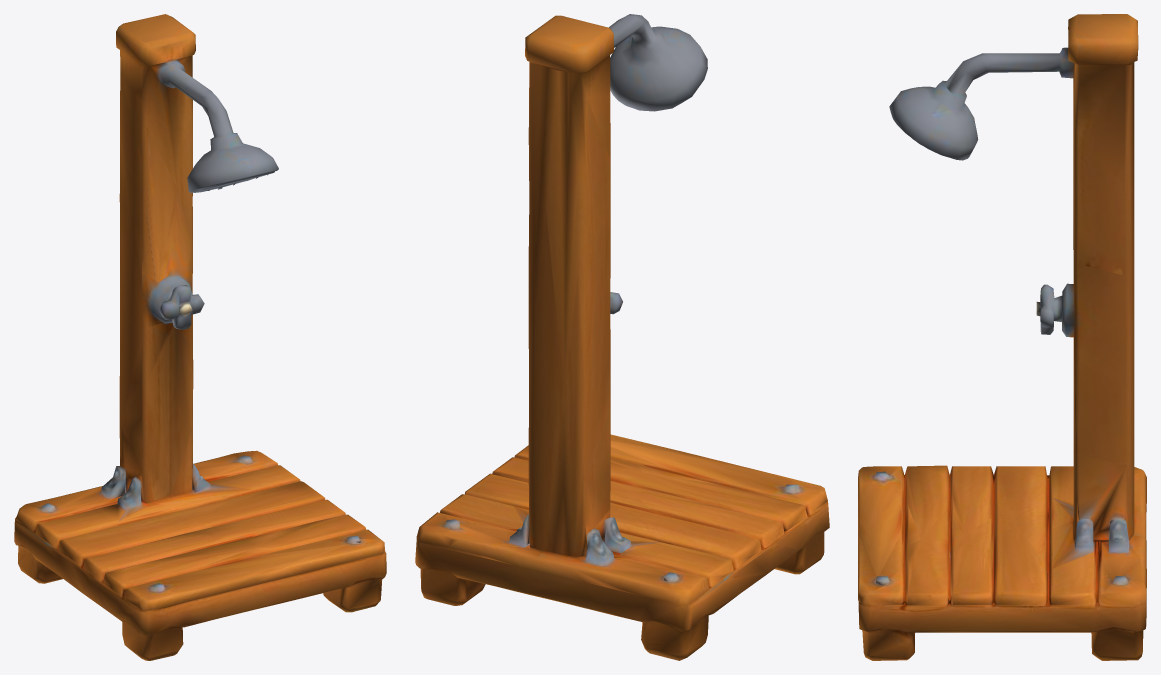
Rendered from shower.glb.
3 renders of one model, left to right at view 1: azimuth 30°, elevation 25°; view 2: azimuth 150°, elevation 25°; view 3: azimuth 270°, elevation 25°, orthographic. The views are drawn at different scales.
Parts seen in each view (by area): view 1: model; view 2: model; view 3: model.
Boxes of the visible parts, x1,y1,x2,y2 form: model: [14, 14, 386, 660]; model: [415, 14, 829, 660]; model: [858, 14, 1146, 660].
Size of the model in its own units: 0.9301 by 1.88 by 0.8604.
Materials: 1 (1 with a texture image).
